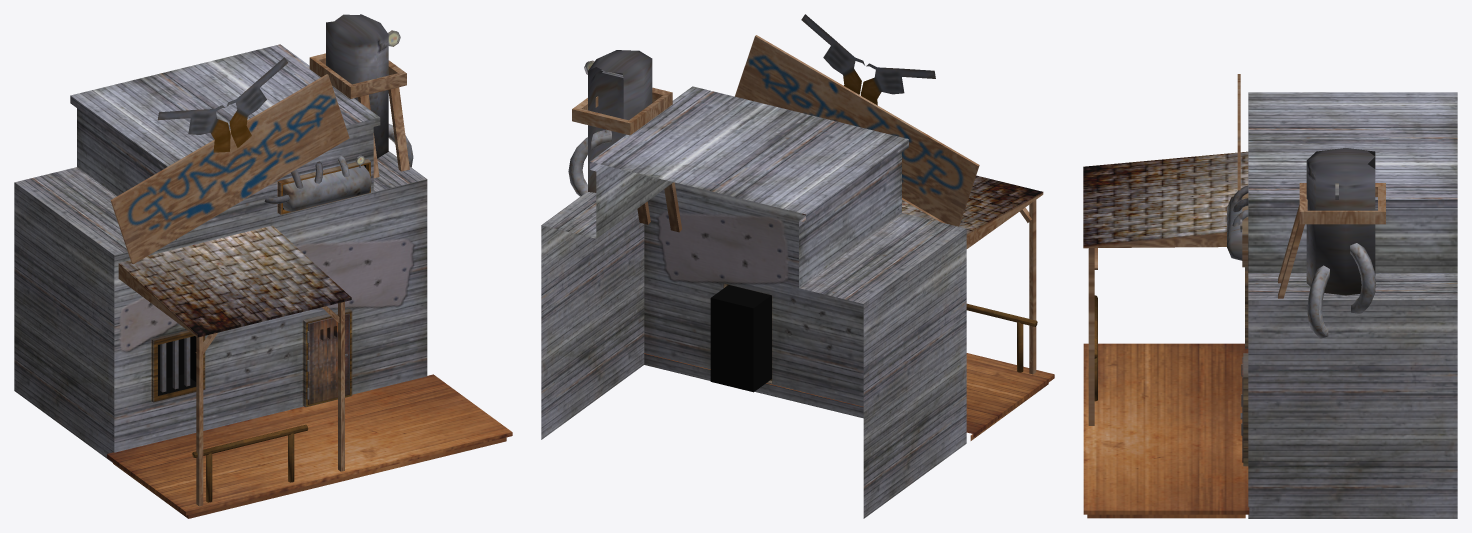
File: bld_gunStore.fbx
3 renders of one model, left to right at view 1: azimuth 30°, elevation 25°; view 2: azimuth 150°, elevation 25°; view 3: azimuth 270°, elevation 25°, orthographic. The views are drawn at different scales.
Parts seen in each view (by area): view 1: bld_gunStore, plt_gunStore; view 2: bld_gunStore, plt_gunStore; view 3: bld_gunStore, plt_gunStore.
Part boxes in pixels (bbox=[...]): bld_gunStore: bbox=[14, 14, 512, 518]; plt_gunStore: bbox=[118, 225, 351, 506]; bld_gunStore: bbox=[541, 14, 1054, 518]; plt_gunStore: bbox=[802, 175, 1043, 374]; bld_gunStore: bbox=[1083, 74, 1457, 518]; plt_gunStore: bbox=[1083, 151, 1248, 425].
Bounding box in the file's own units: 916 × 967 × 842.
Materials: 1 (1 with a texture image).
